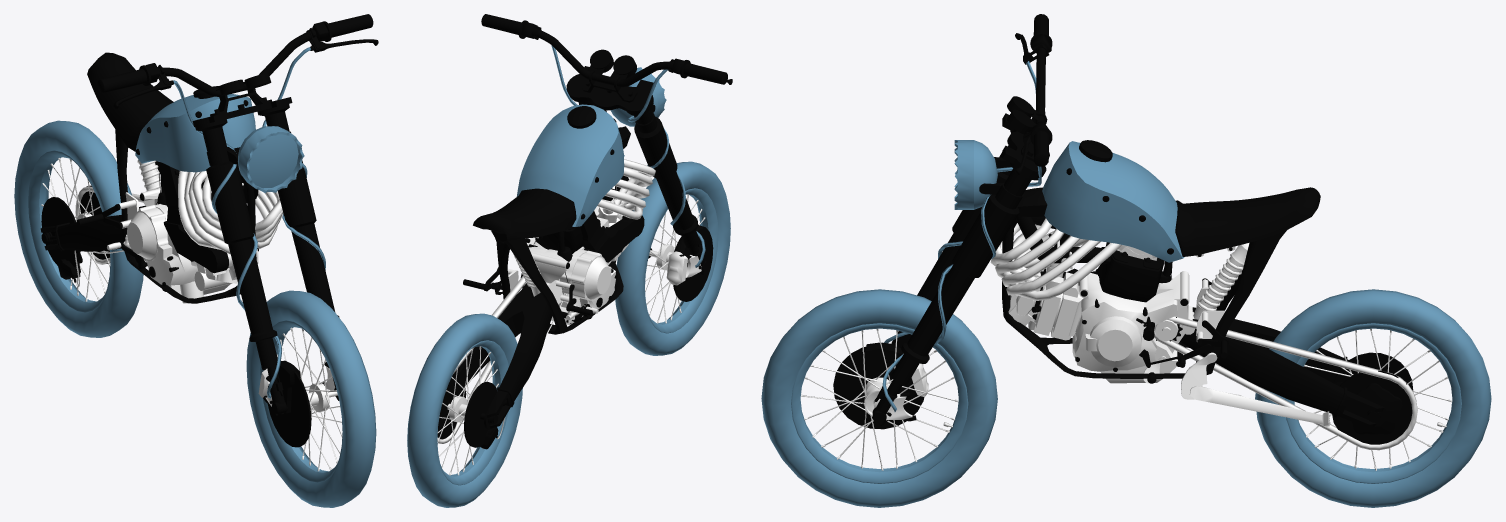
Rendered from sk-bike.glb.
The picture shows the model from 3 angles, left to right: view 1: azimuth 30°, elevation 25°; view 2: azimuth 150°, elevation 25°; view 3: azimuth 270°, elevation 25°; orthographic projection. The views are drawn at different scales.
Parts seen in each view (by area): view 1: SK_rsg_LastGuns_bike_01, SK_rsg_LastGuns_bike_Front_Wheel, SK_rsg_LastGuns_bike_Back_Wheel, SK_rsg_LastGuns_depreciation_01, SK_rsg_LastGuns_rudder_01; view 2: SK_rsg_LastGuns_bike_01, SK_rsg_LastGuns_bike_Back_Wheel, SK_rsg_LastGuns_bike_Front_Wheel, SK_rsg_LastGuns_depreciation_01, SK_rsg_LastGuns_rudder_01; view 3: SK_rsg_LastGuns_bike_01, SK_rsg_LastGuns_bike_Front_Wheel, SK_rsg_LastGuns_bike_Back_Wheel, SK_rsg_LastGuns_depreciation_01, SK_rsg_LastGuns_rudder_01.
Boxes of the visible parts, box(x1,y1,x2,y2) form: SK_rsg_LastGuns_bike_01: box(76, 14, 378, 398); SK_rsg_LastGuns_bike_Front_Wheel: box(246, 290, 376, 507); SK_rsg_LastGuns_bike_Back_Wheel: box(14, 120, 143, 337); SK_rsg_LastGuns_depreciation_01: box(40, 185, 145, 287); SK_rsg_LastGuns_rudder_01: box(258, 360, 339, 415); SK_rsg_LastGuns_bike_01: box(463, 14, 732, 334); SK_rsg_LastGuns_bike_Back_Wheel: box(407, 313, 522, 507); SK_rsg_LastGuns_bike_Front_Wheel: box(615, 161, 730, 355); SK_rsg_LastGuns_depreciation_01: box(437, 276, 566, 449); SK_rsg_LastGuns_rudder_01: box(647, 225, 708, 285); SK_rsg_LastGuns_bike_01: box(882, 14, 1329, 426); SK_rsg_LastGuns_bike_Front_Wheel: box(761, 289, 997, 507); SK_rsg_LastGuns_bike_Back_Wheel: box(1255, 289, 1491, 507); SK_rsg_LastGuns_depreciation_01: box(1154, 307, 1417, 450); SK_rsg_LastGuns_rudder_01: box(865, 342, 928, 425).
Size of the model in its own units: 1.23 by 1.74 by 2.7.
